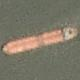ship: (0, 25, 44, 56)
